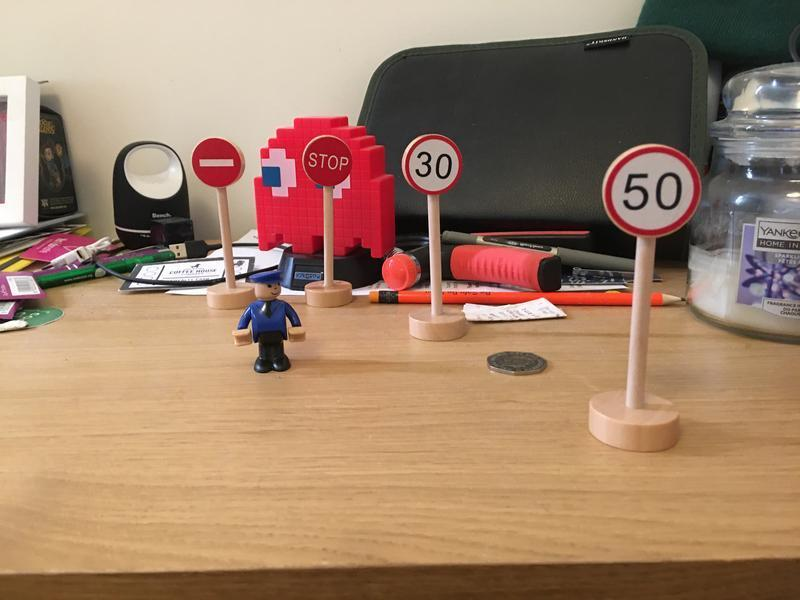Traffic_Sign_30: (404, 134, 461, 194)
Traffic_Sign_50: (603, 145, 699, 241)
Traffic_Sign_No_Entry: (191, 137, 243, 189)
Traffic_Sign_Stop: (303, 135, 351, 186)
person: (232, 265, 308, 380)
